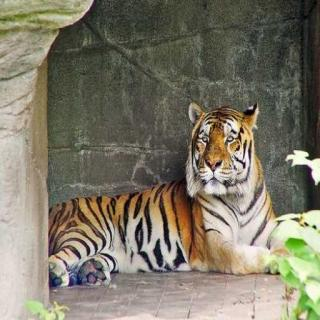Tiger: (42, 97, 296, 290)
